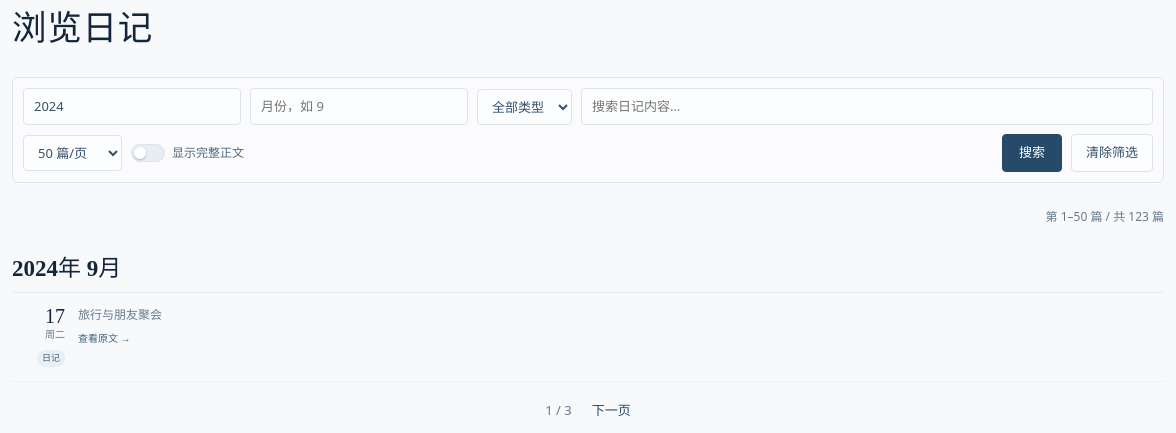
Test case: 浏览页分页与筛选 › 切换完整正文开关后立即请求全文接口，无需提交搜索表单
Check: the text "旅行与朋友聚会" is shown, box [78,306,162,323]
Click the checkbox labelled "显示完整正文" at (188, 153), box [131,143,244,163]
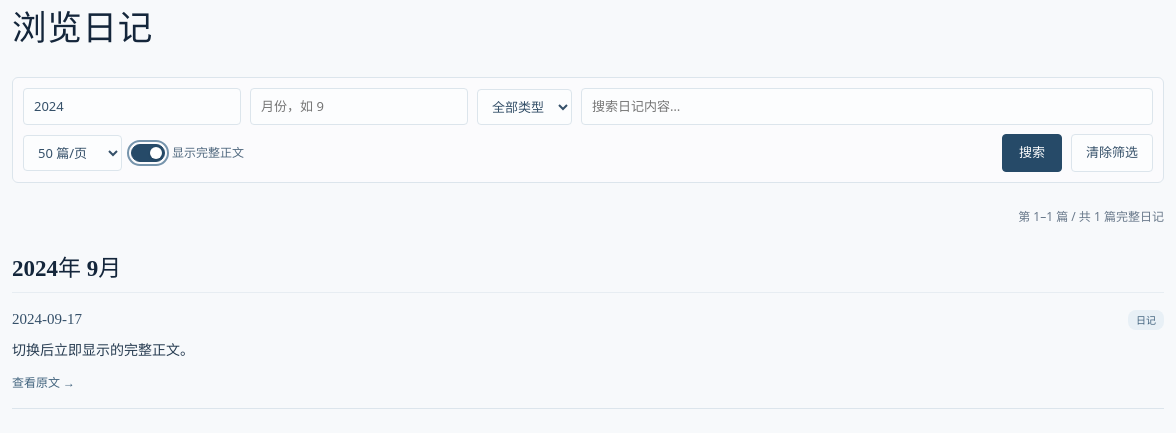
Check: the text "切换后立即显示的完整正文。" is shown, box [12,343,194,358]
